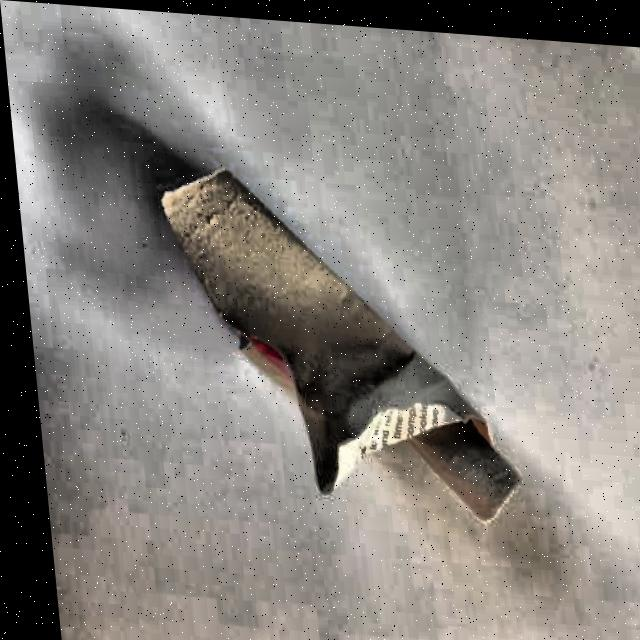paper: (155, 155, 529, 529)
